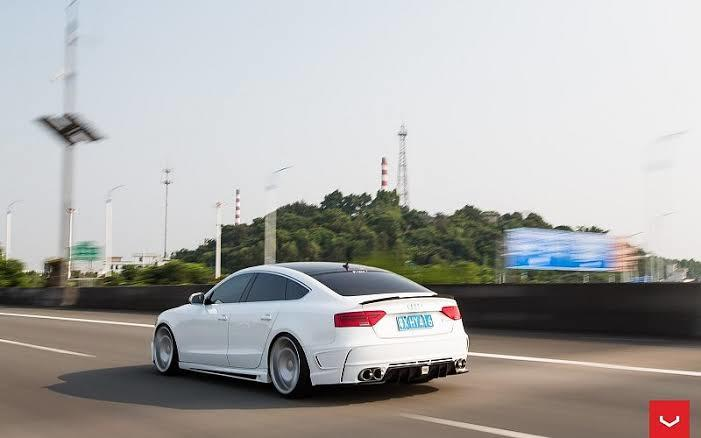audi: (146, 257, 474, 400)
